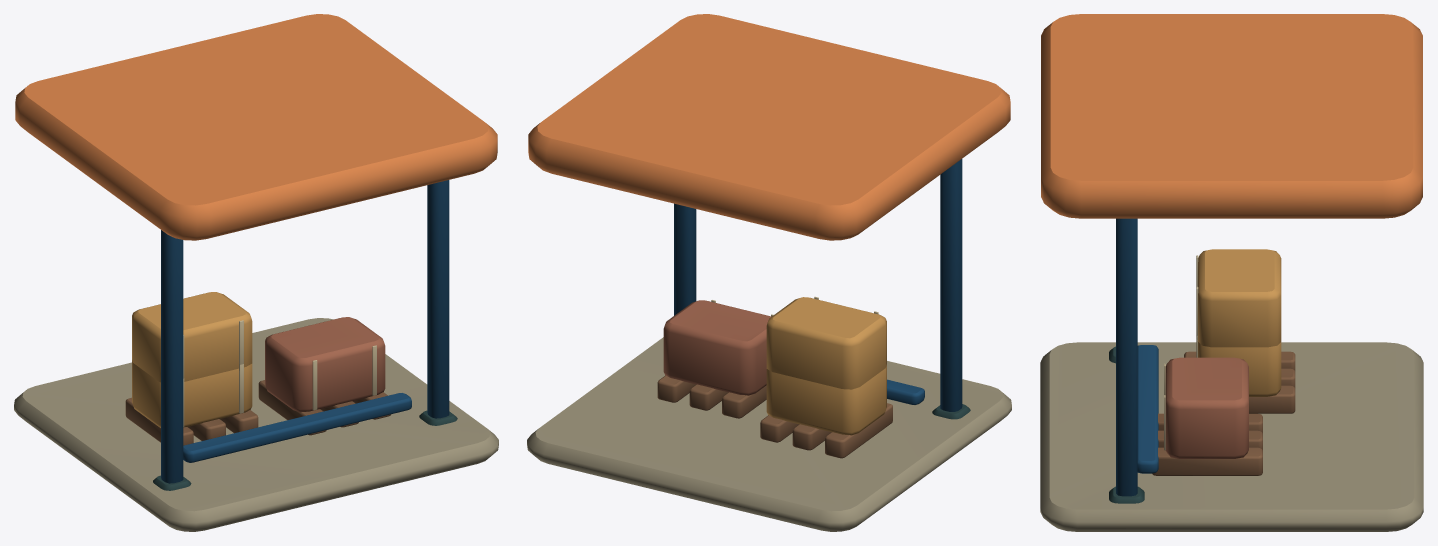
The model's file is metro_logistics_2.glb.
The picture shows the model from 3 angles, left to right: view 1: azimuth 30°, elevation 25°; view 2: azimuth 150°, elevation 25°; view 3: azimuth 270°, elevation 25°; orthographic projection. The views are drawn at different scales.
Parts seen in each view (by area): view 1: Logistics2; view 2: Logistics2; view 3: Logistics2.
Boxes of the visible parts, left/top/right/bottom form: Logistics2: left=14, top=14, right=498, bottom=531; Logistics2: left=527, top=14, right=1011, bottom=531; Logistics2: left=1040, top=14, right=1423, bottom=531.
Bounding box in the file's own units: 2.68 × 2.51 × 2.48.
